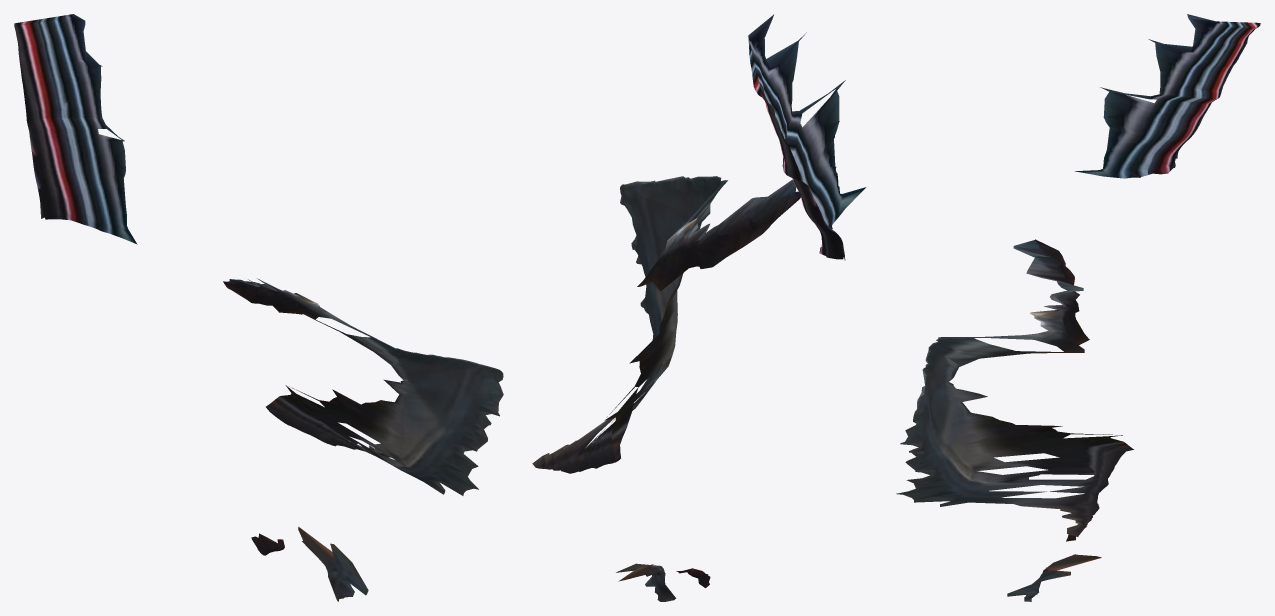
The model's file is observed-surface.glb.
3 renders of one model, left to right at view 1: azimuth 30°, elevation 25°; view 2: azimuth 150°, elevation 25°; view 3: azimuth 270°, elevation 25°, orthographic. The views are drawn at different scales.
Visible parts, largest first — view 1: geometry_0; view 2: geometry_0; view 3: geometry_0.
Boxes of the visible parts, box(x1,y1,x2,y2) form: geometry_0: box(14, 14, 503, 601); geometry_0: box(532, 14, 865, 601); geometry_0: box(896, 14, 1260, 601).
Bounding box in the file's own units: 0.3833 × 0.6424 × 0.4169.
Materials: 1 (1 with a texture image).
